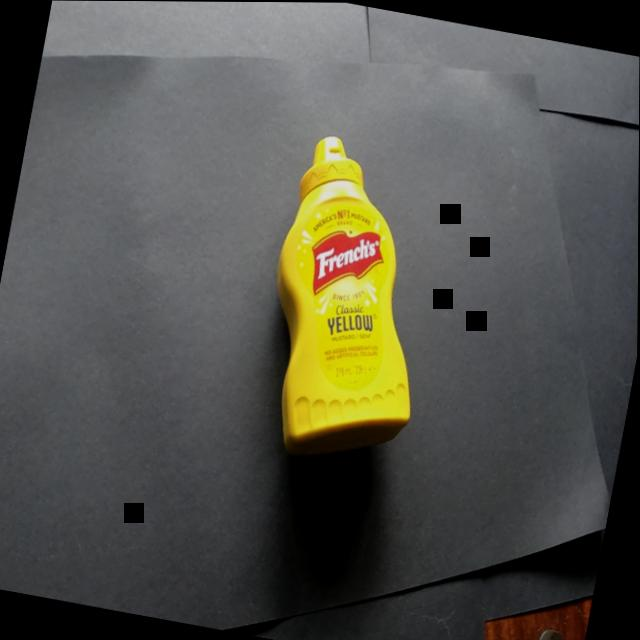Mustard: (220, 102, 475, 491)
